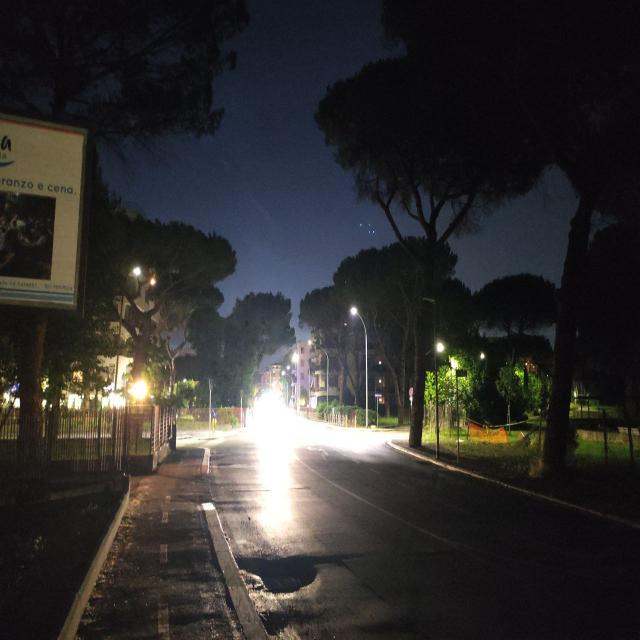lampione: (128, 372, 155, 409), (432, 329, 451, 363), (129, 257, 146, 287), (346, 300, 362, 327), (146, 271, 160, 292), (304, 335, 318, 353), (292, 353, 300, 364), (479, 350, 485, 360), (286, 364, 291, 370), (281, 371, 285, 376)
